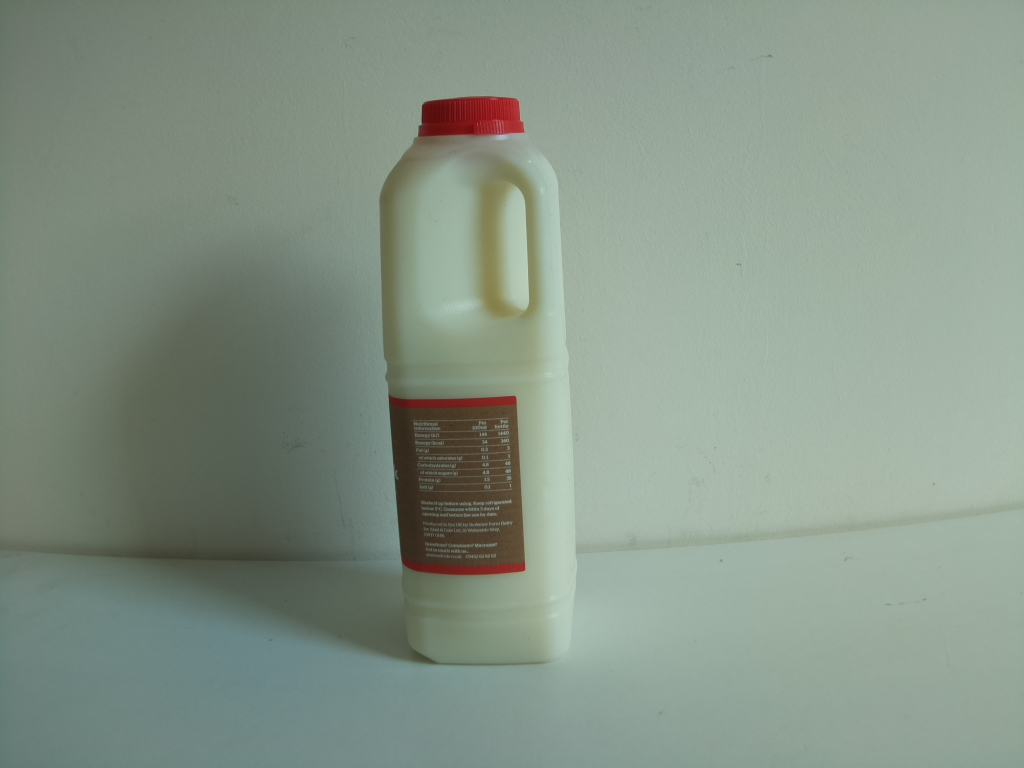milk: (377, 87, 584, 673)
